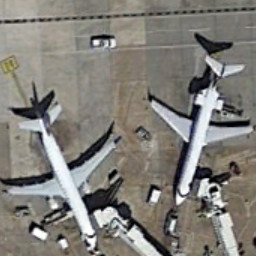Airplane: (141, 40, 256, 214), (4, 99, 129, 256)
